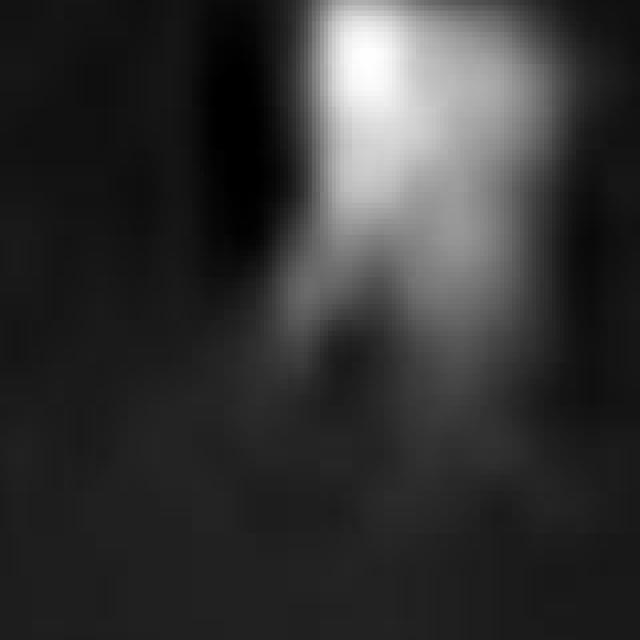person: (297, 1, 565, 470)
